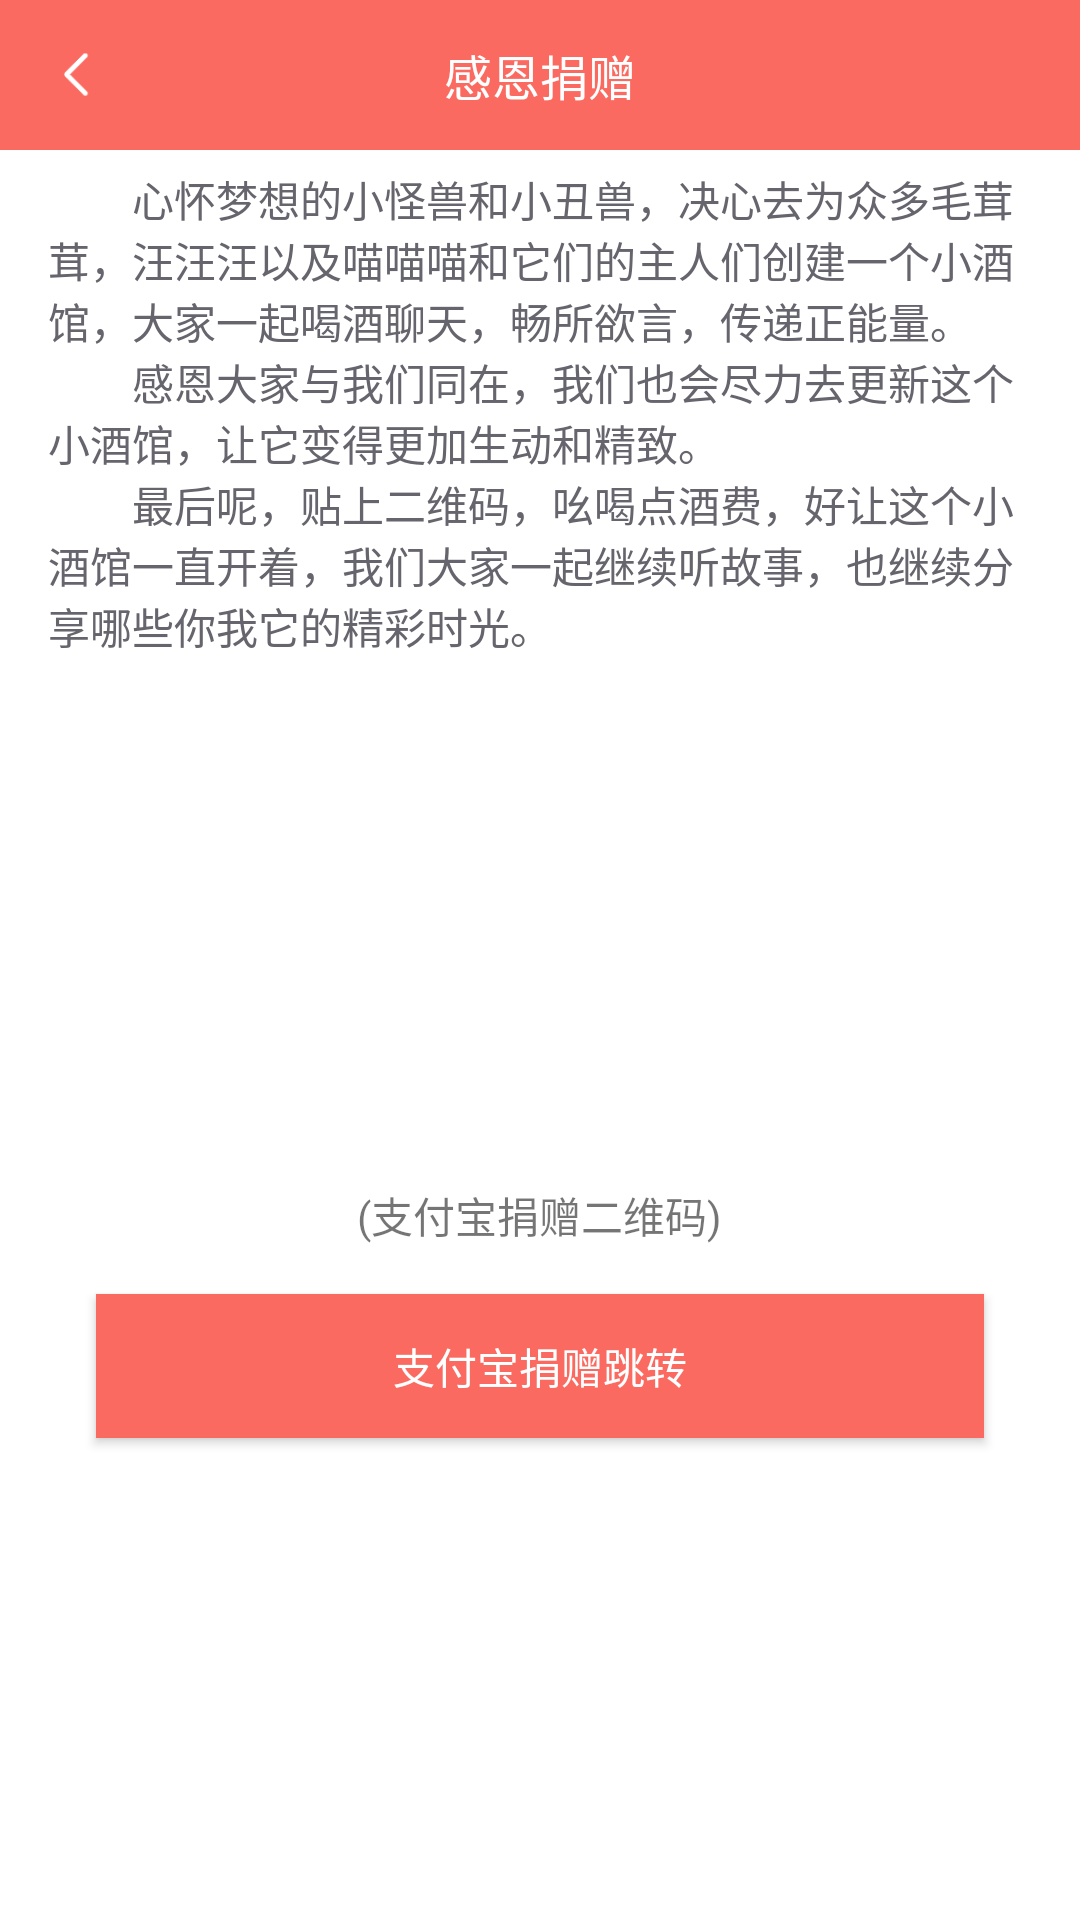

Where icons sit on this 1080px x 1920px app screen, as (x1, y1, x2, y2):
back: (64, 53, 88, 96)
